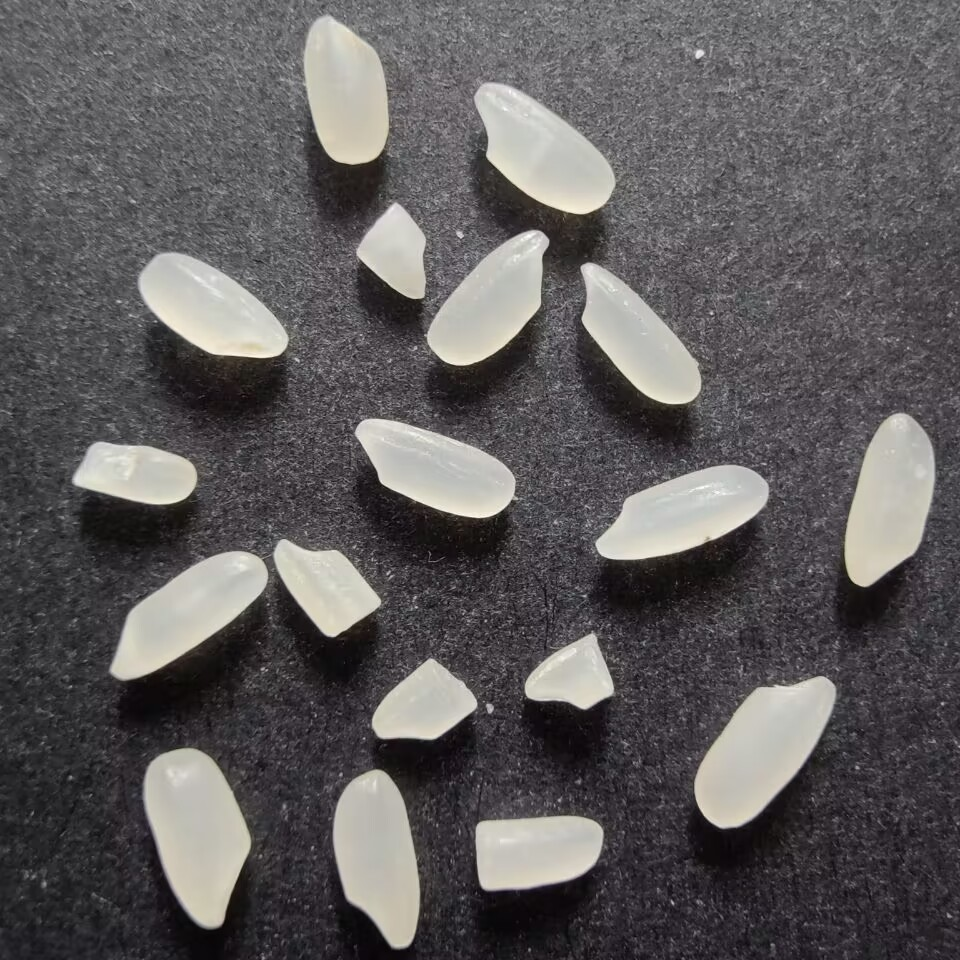broken: (468, 809, 610, 899), (268, 533, 385, 642), (364, 653, 483, 747), (64, 436, 201, 511), (350, 198, 430, 305), (520, 626, 618, 713)
rice: (689, 670, 844, 831), (104, 545, 272, 687), (142, 744, 257, 937), (472, 77, 619, 217), (572, 260, 706, 408), (591, 461, 770, 565), (425, 223, 552, 368), (351, 418, 523, 525), (134, 247, 293, 359), (328, 765, 424, 950), (841, 407, 938, 590), (300, 11, 392, 168)
